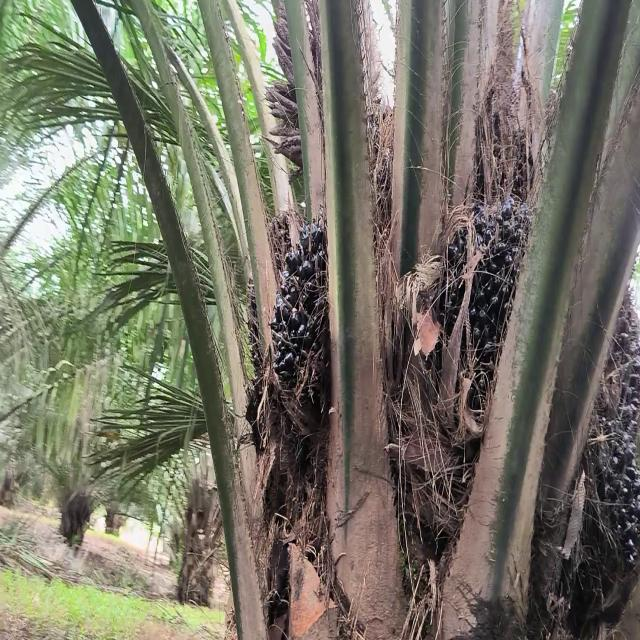palm-oil: (415, 198, 529, 480), (262, 204, 336, 474), (557, 415, 639, 640)
